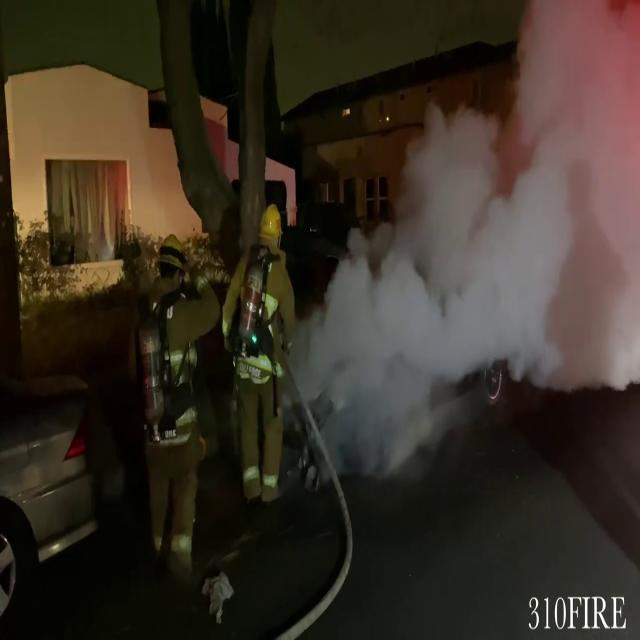Smoke: (304, 2, 640, 481)
